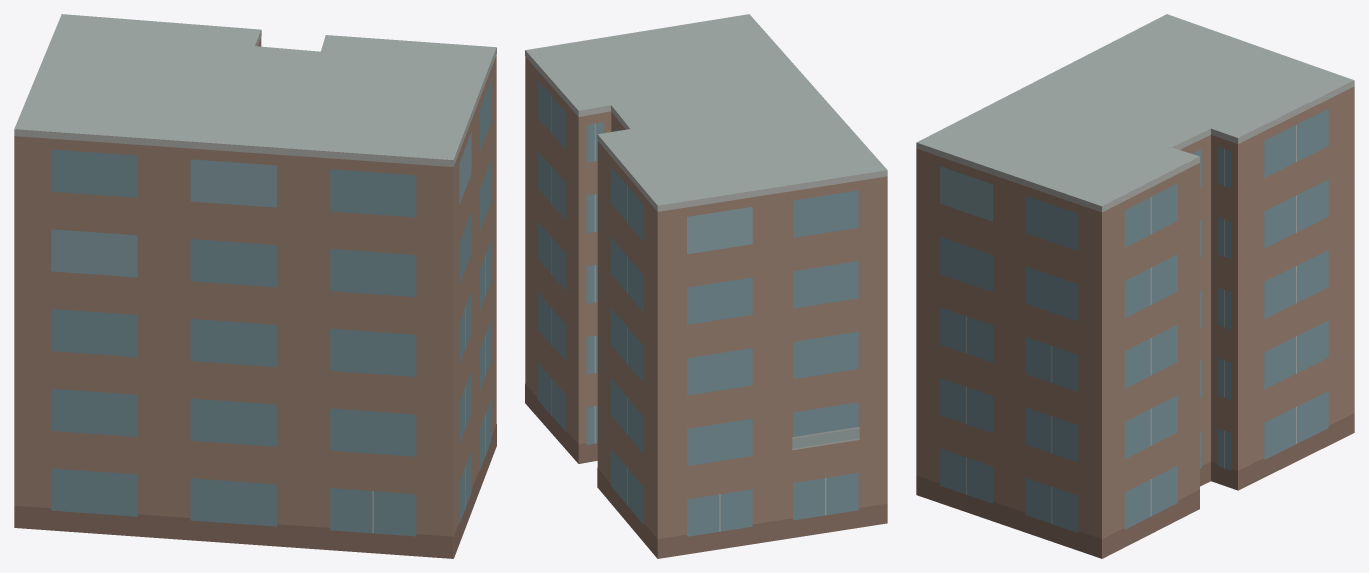
File: survey-upis-32675043.glb
The picture shows the model from 3 angles, left to right: view 1: azimuth 30°, elevation 25°; view 2: azimuth 150°, elevation 25°; view 3: azimuth 270°, elevation 25°; orthographic projection. The views are drawn at different scales.
Visible parts, largest first — view 1: survey-upis-32675043.tmp; view 2: survey-upis-32675043.tmp; view 3: survey-upis-32675043.tmp.
Part boxes in pixels (box(x1,y1,x2,y2)): survey-upis-32675043.tmp: box(14, 14, 496, 558); survey-upis-32675043.tmp: box(525, 14, 887, 558); survey-upis-32675043.tmp: box(916, 14, 1354, 558).
Size of the model in its own units: 16.45 by 14.05 by 15.83.
